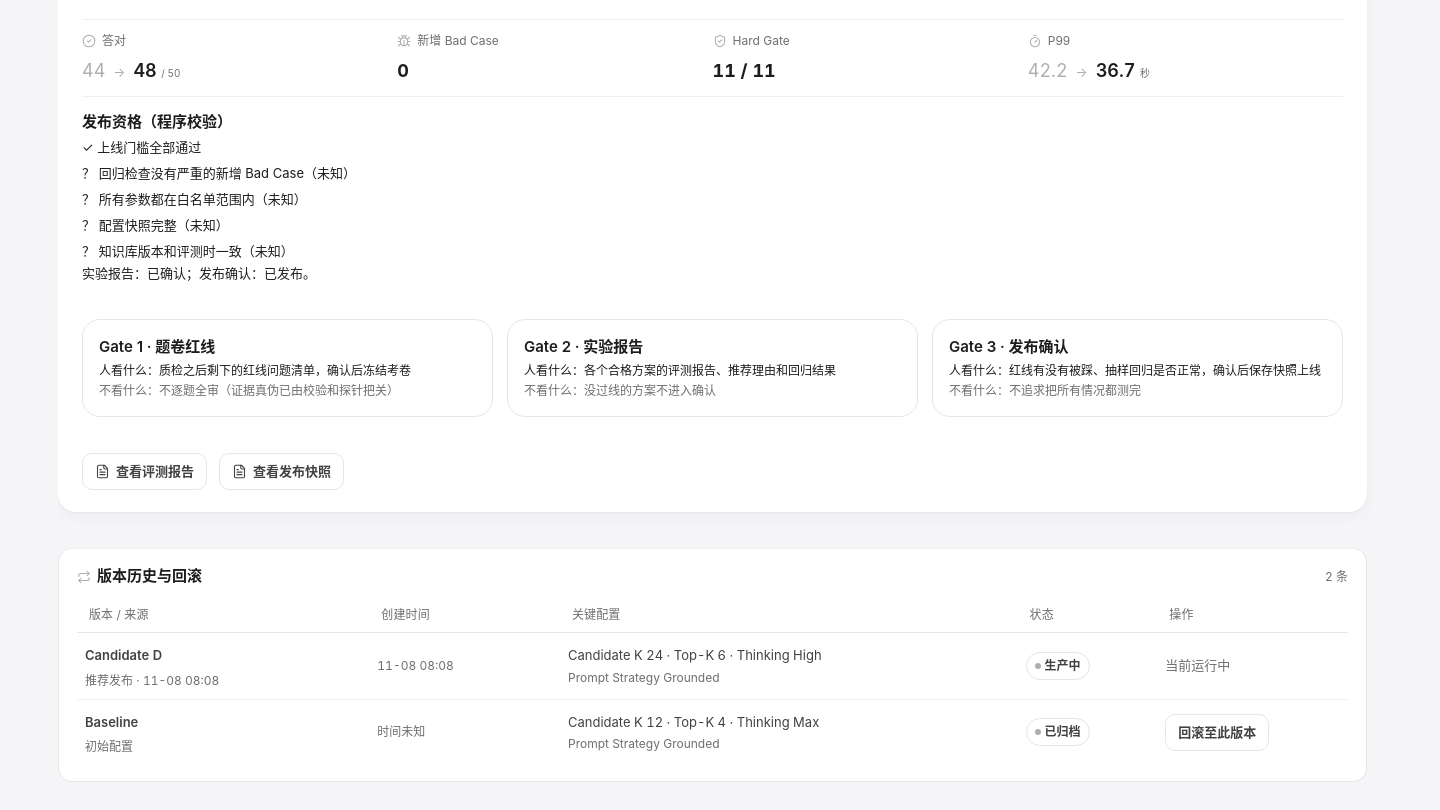
Test case: uses the saved previous configuration after release and preserves snapshot, history and rollback controls
Later steps or results of the test are not shown.
Click the button "查看发布快照": [282, 472] box [219,453,344,490]
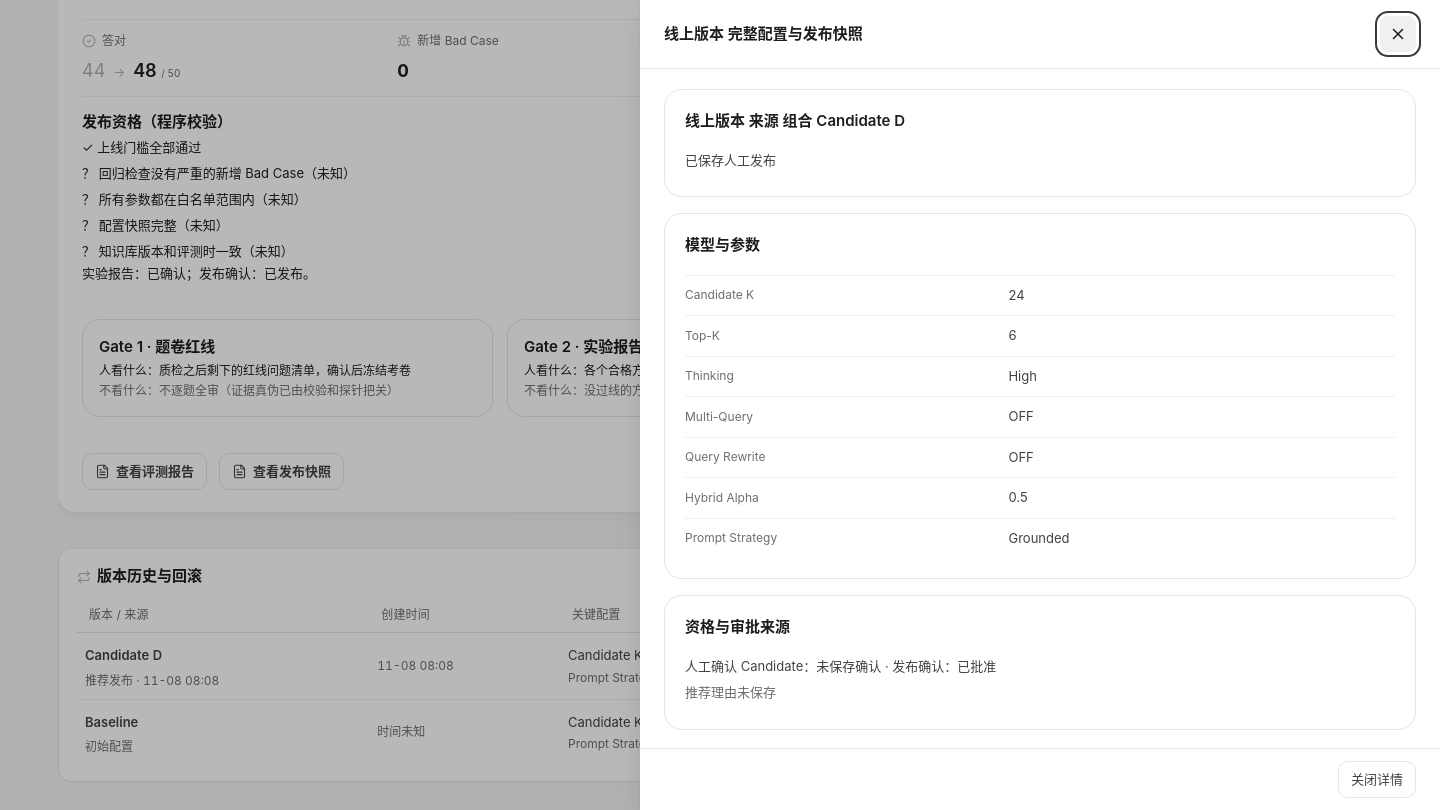
Check: the dialog shows "完整配置与发布快照", box [664,24,863,43]
